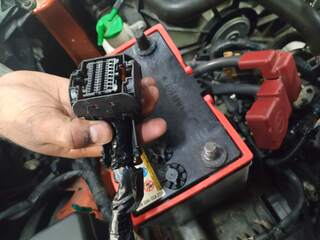connector: (69, 54, 142, 118)
